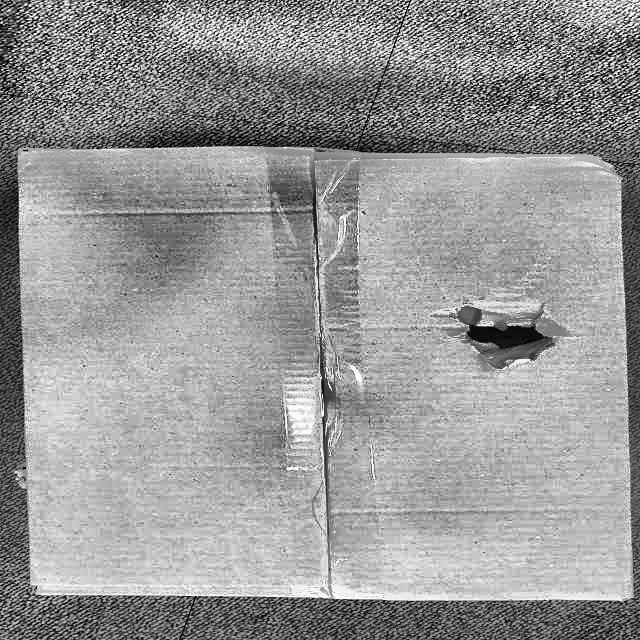box: (9, 135, 640, 607)
hole: (444, 309, 570, 365)
